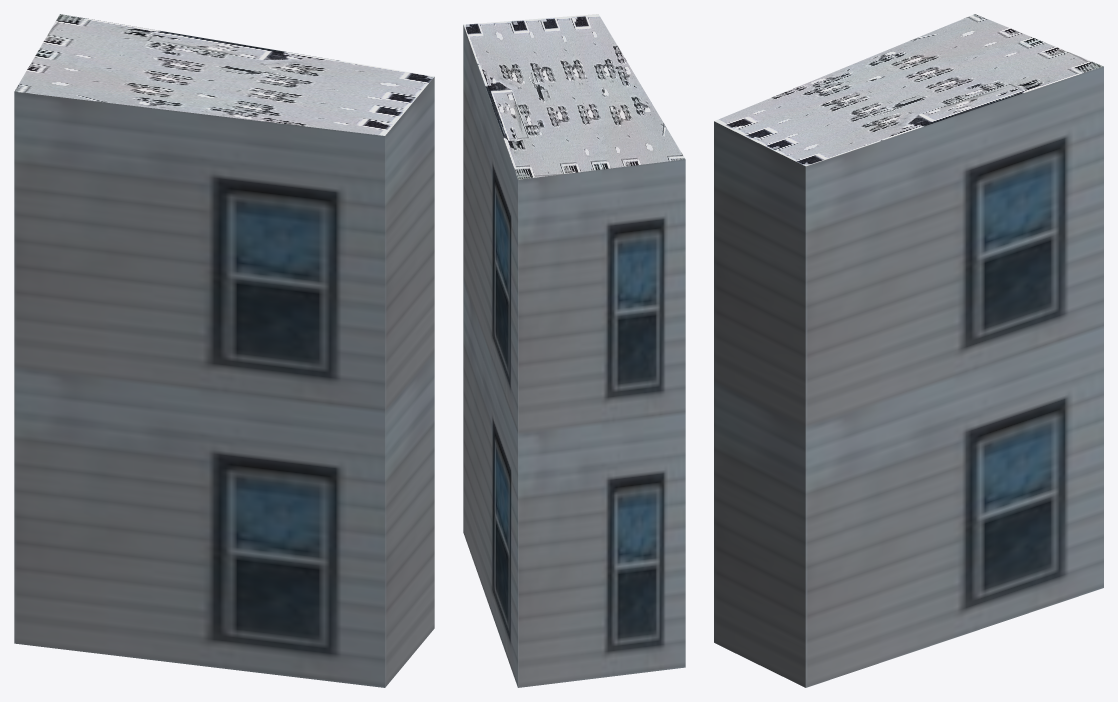
Rendered from ResTex__1280.fbx.
The picture shows the model from 3 angles, left to right: view 1: azimuth 30°, elevation 25°; view 2: azimuth 150°, elevation 25°; view 3: azimuth 270°, elevation 25°; orthographic projection. The views are drawn at different scales.
Visible parts, largest first — view 1: CityEngineMaterial_18_m, CityEngineMaterial_m; view 2: CityEngineMaterial_18_m, CityEngineMaterial_m; view 3: CityEngineMaterial_18_m, CityEngineMaterial_m.
Boxes of the visible parts, x1,y1,x2,y2 form: CityEngineMaterial_18_m: [14, 77, 434, 687]; CityEngineMaterial_m: [14, 14, 434, 135]; CityEngineMaterial_18_m: [463, 25, 685, 687]; CityEngineMaterial_m: [463, 14, 684, 179]; CityEngineMaterial_18_m: [714, 66, 1103, 687]; CityEngineMaterial_m: [714, 14, 1103, 166].
Bounding box in the file's own units: 3.76 × 6 × 4.07.
Materials: 2 (2 with a texture image).
